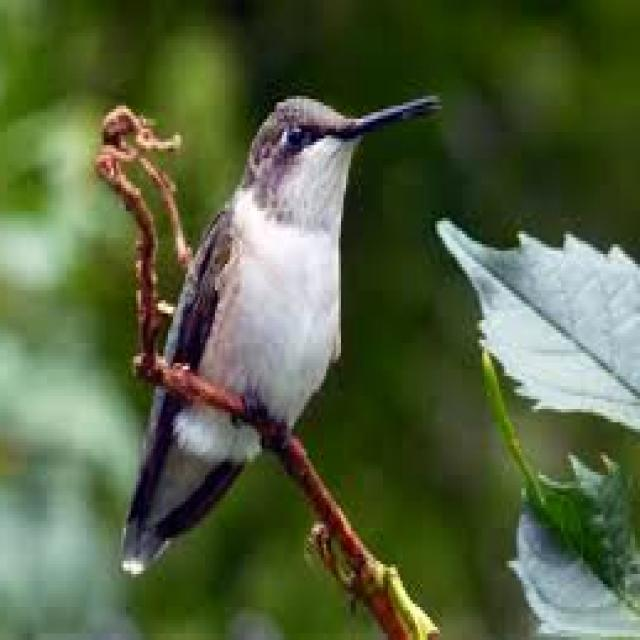hummingbird: (126, 96, 437, 571)
